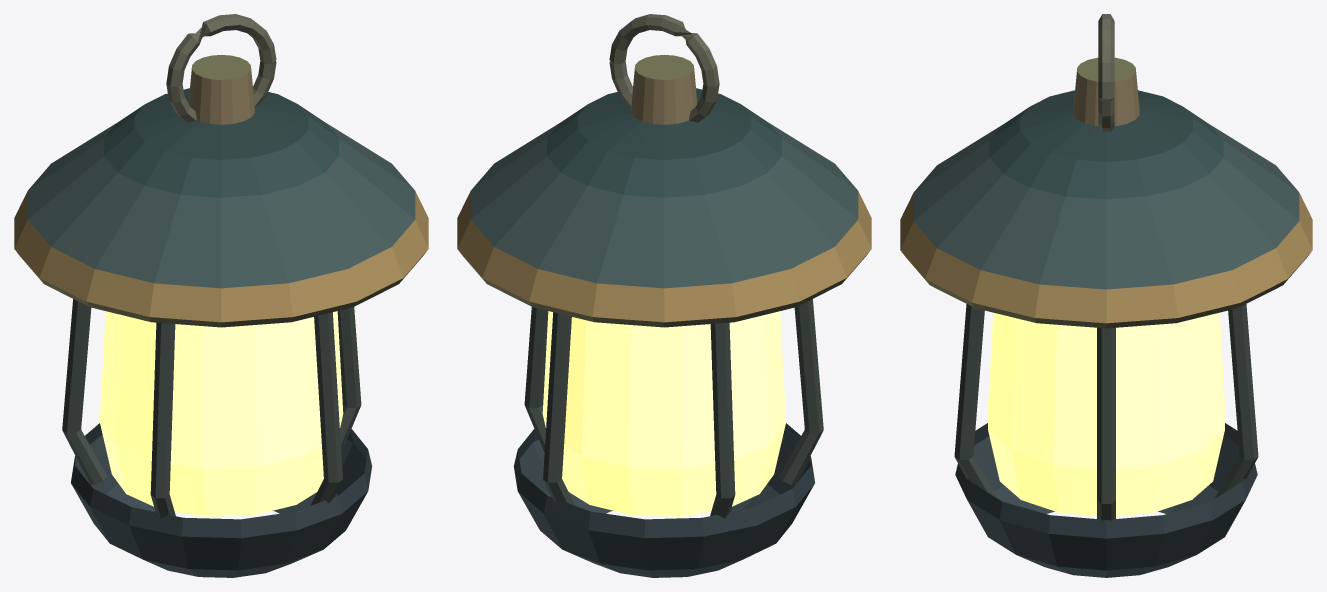
File: cage_lamp.glb
The picture shows the model from 3 angles, left to right: view 1: azimuth 30°, elevation 25°; view 2: azimuth 150°, elevation 25°; view 3: azimuth 270°, elevation 25°; orthographic projection.
Visible parts, largest first — view 1: cage_lamp; view 2: cage_lamp; view 3: cage_lamp.
Part boxes in pixels (x1,y1,x2,y2): cage_lamp: (14, 14, 428, 577); cage_lamp: (457, 14, 871, 577); cage_lamp: (900, 14, 1312, 577).
Size of the model in its own units: 0.31 by 0.4262 by 0.3053.
